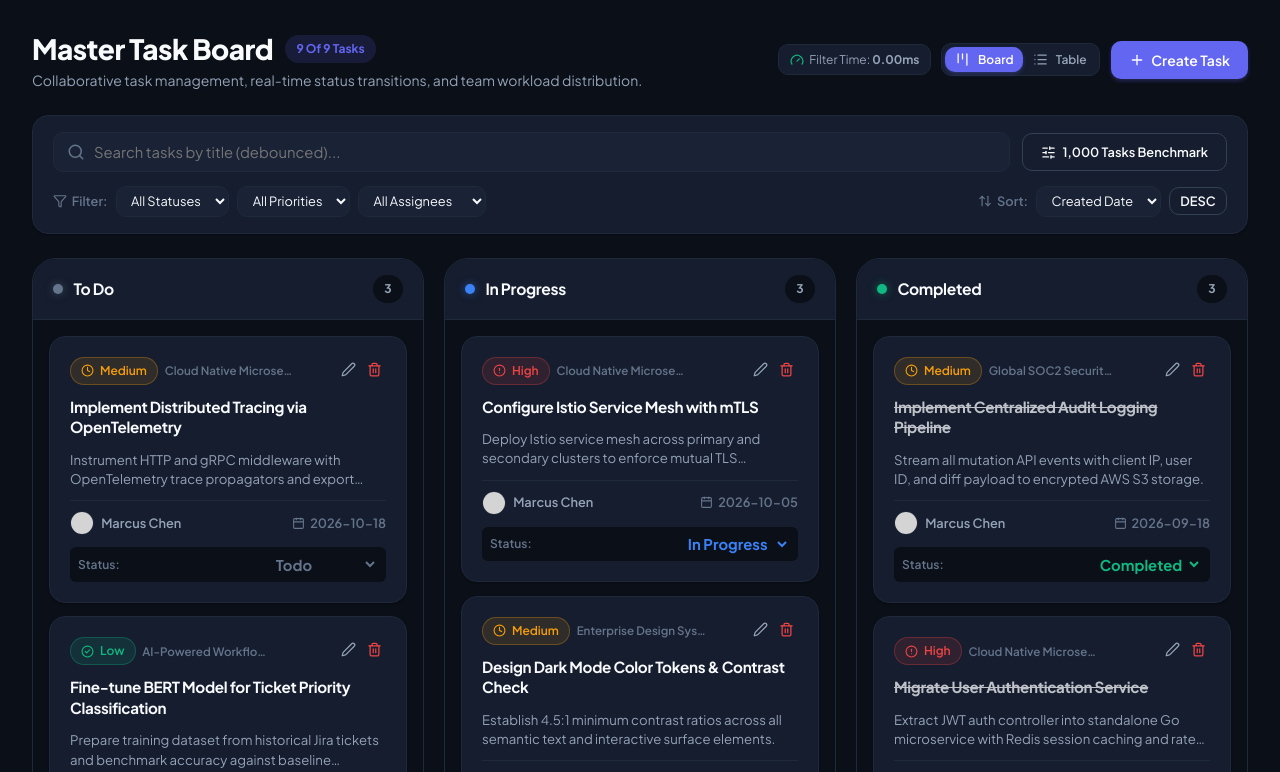
Test case: Task Rendering, Search, and Filtering › filters tasks using debounced search input
The width and height of the screenshot is (1280, 772).
Expected: the heading "Configure Istio Service Mesh with mTLS" is shown, [482,397,798,417]
Type "Istio" into the field with placeholder "Search tasks by title (debounced)...". click: (532, 152)
box: [53,132,1010,172]
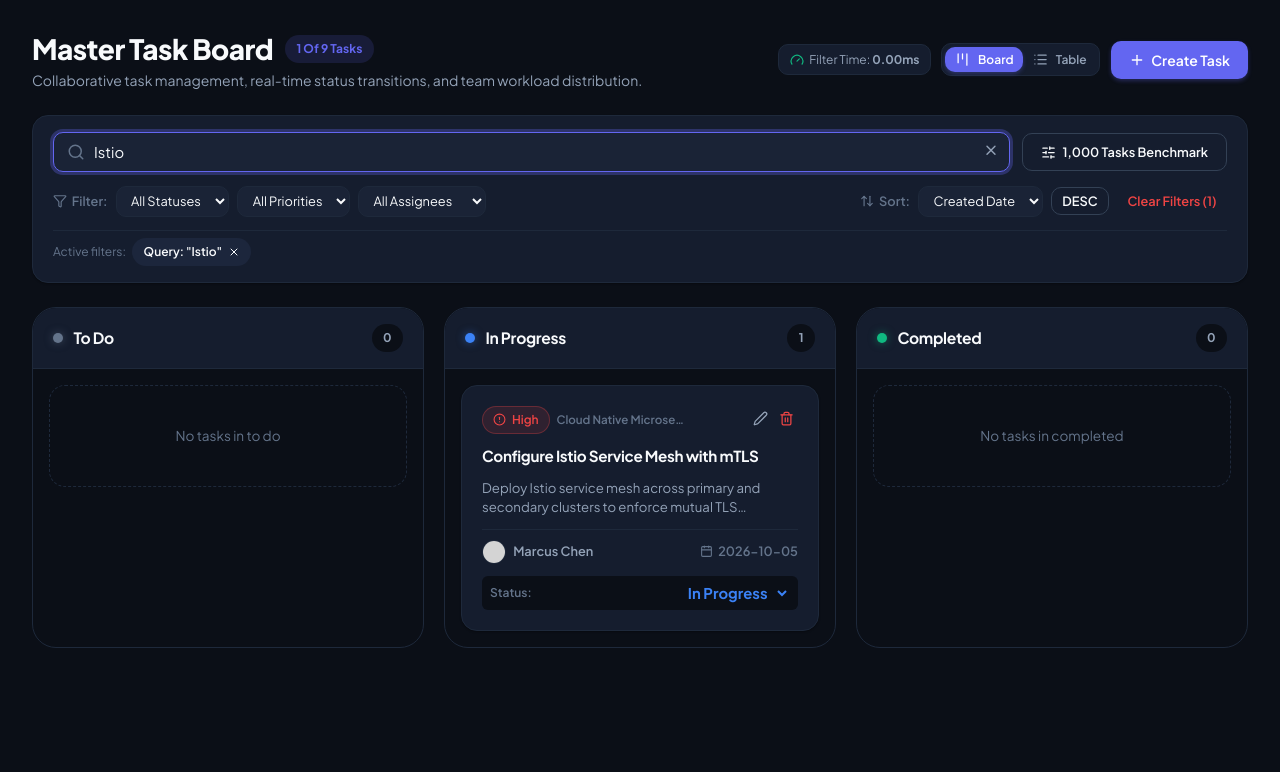
Expected: the heading "Configure Istio Service Mesh with mTLS" is shown, [482,446,798,466]
Expected: the heading "Migrate User Authentication Service" is gone
